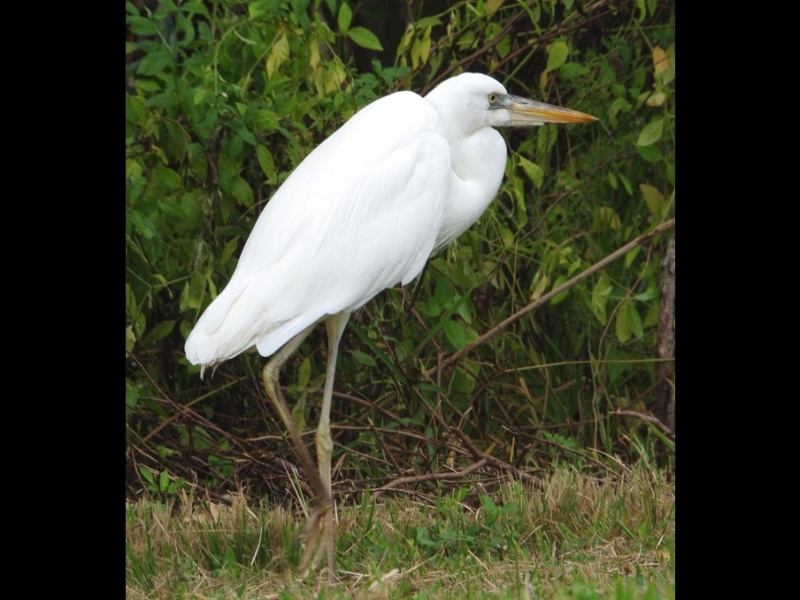heron: (182, 68, 603, 503)
